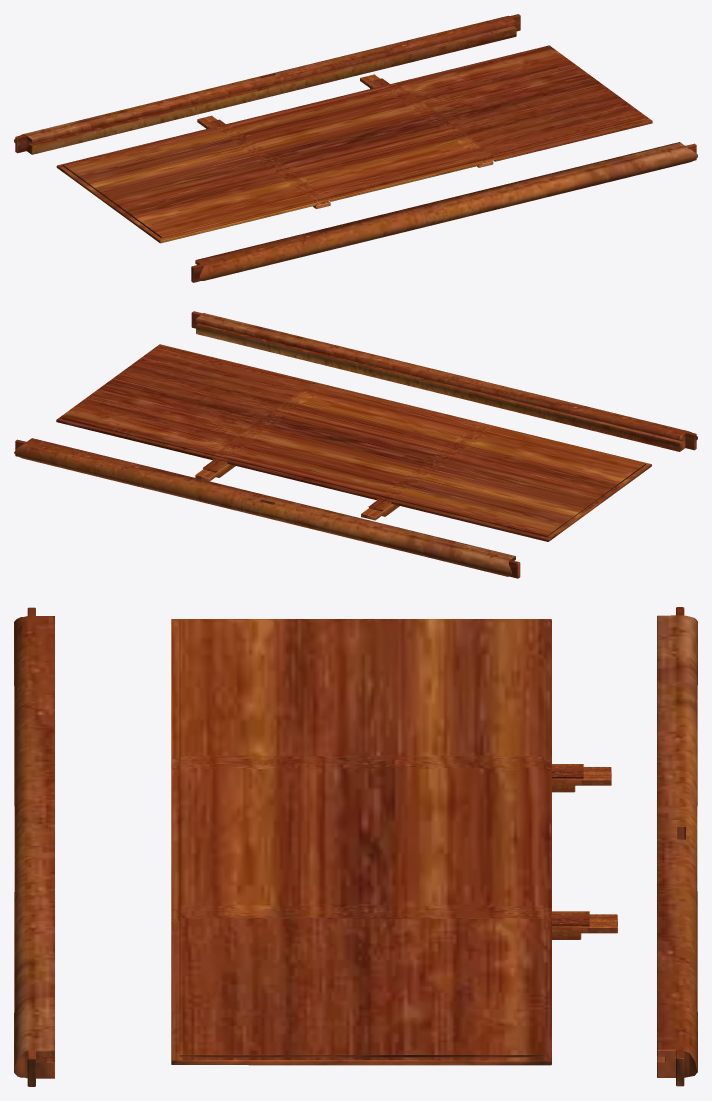
Rendered from SJ_J_cengban_02_1.FBX.
3 views of the same model, one above another, from view 1: azimuth 30°, elevation 25°; view 2: azimuth 150°, elevation 25°; view 3: azimuth 270°, elevation 25° (orthographic). The views are drawn at different scales.
Visible parts, largest first — view 1: SJ_J_cengban_02_1, SJ_J_dgdb_2_03, SJ_J_dgdb_2_04; view 2: SJ_J_cengban_02_1, SJ_J_dgdb_2_03, SJ_J_dgdb_2_04, SJ_J_dgcd_09, SJ_J_dgcd_10; view 3: SJ_J_cengban_02_1, SJ_J_dgdb_2_03, SJ_J_dgdb_2_04, SJ_J_dgcd_09, SJ_J_dgcd_10.
Boxes of the visible parts, x1=… form: SJ_J_cengban_02_1: x1=56, y1=45, x2=652, y2=243; SJ_J_dgdb_2_03: x1=191, y1=142, x2=697, y2=282; SJ_J_dgdb_2_04: x1=14, y1=14, x2=520, y2=154; SJ_J_cengban_02_1: x1=56, y1=344, x2=651, y2=541; SJ_J_dgdb_2_03: x1=191, y1=311, x2=697, y2=451; SJ_J_dgdb_2_04: x1=14, y1=438, x2=520, y2=578; SJ_J_dgcd_09: x1=195, y1=459, x2=235, y2=481; SJ_J_dgcd_10: x1=361, y1=499, x2=399, y2=520; SJ_J_cengban_02_1: x1=171, y1=619, x2=551, y2=1065; SJ_J_dgdb_2_03: x1=14, y1=607, x2=54, y2=1086; SJ_J_dgdb_2_04: x1=657, y1=607, x2=697, y2=1086; SJ_J_dgcd_09: x1=552, y1=911, x2=617, y2=939; SJ_J_dgcd_10: x1=552, y1=764, x2=611, y2=792.
Bounding box in the file's own units: 103 × 3.08 × 65.78.
